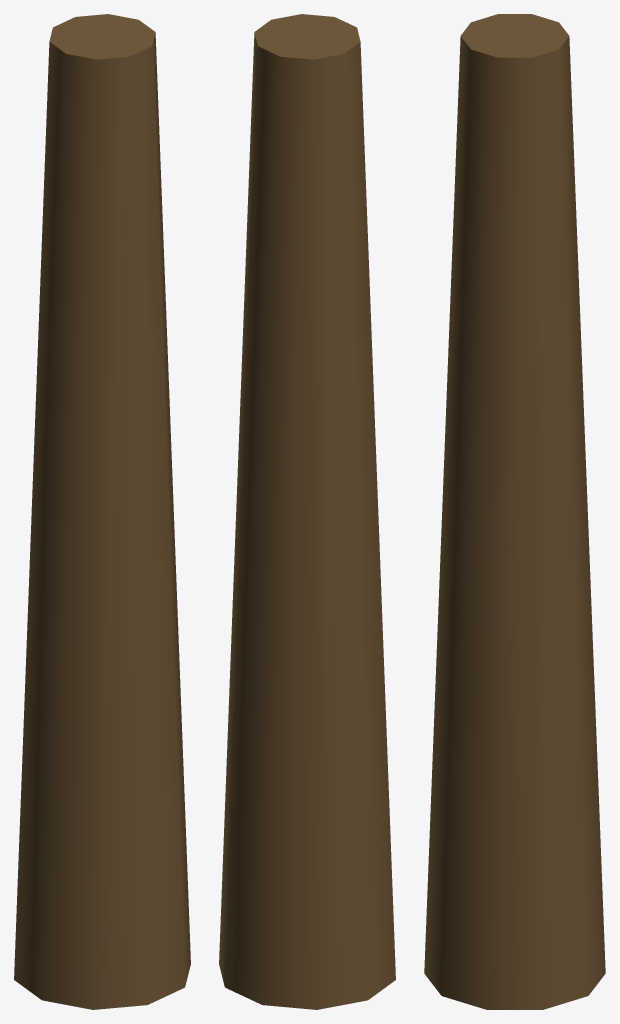
The model's file is branch-sw.glb.
3 renders of one model, left to right at view 1: azimuth 30°, elevation 25°; view 2: azimuth 150°, elevation 25°; view 3: azimuth 270°, elevation 25°, orthographic.
Visible parts, largest first — view 1: Branch sw; view 2: Branch sw; view 3: Branch sw.
Boxes of the visible parts, x1=… form: Branch sw: x1=14, y1=14, x2=190, y2=1009; Branch sw: x1=219, y1=14, x2=395, y2=1009; Branch sw: x1=424, y1=14, x2=605, y2=1009.
Bounding box in the file's own units: 4.61 × 27.63 × 4.84.
